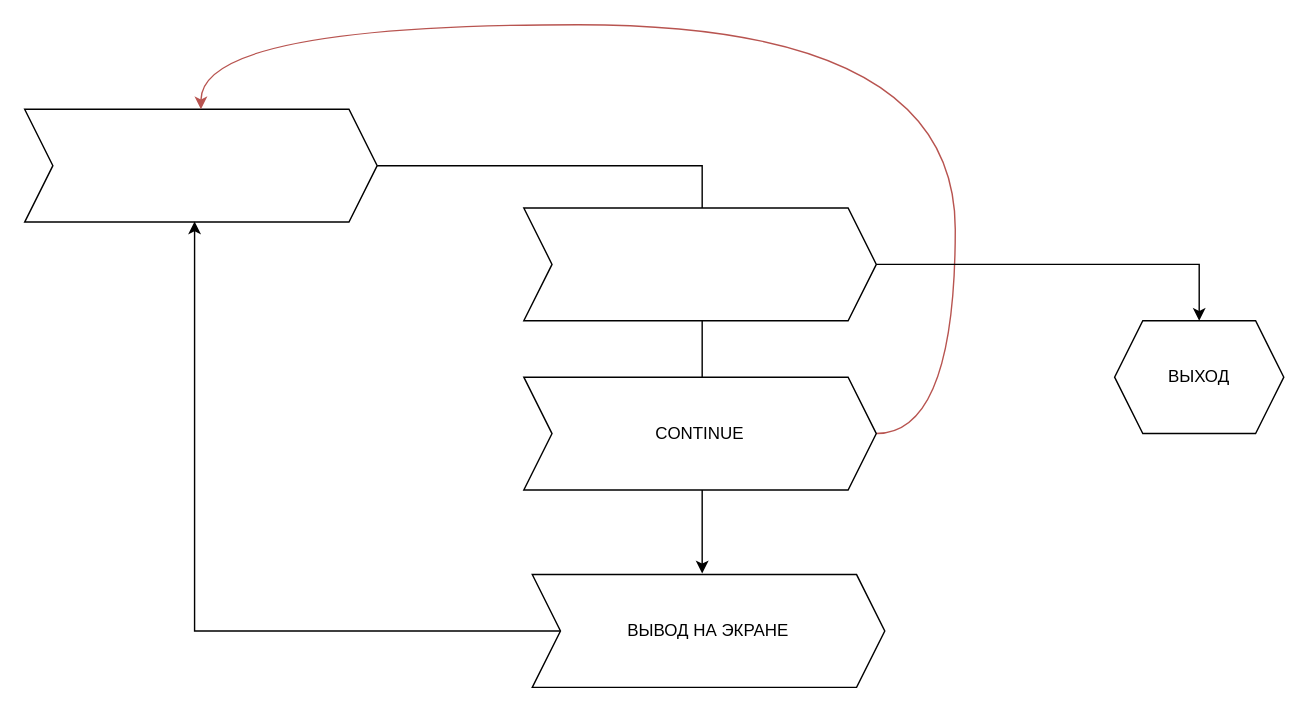
The diagram is 1308 pixels wide and 712 high, and some of its shapes have lost their labels. The box of each missing label's shape, as (x1, y1, x2, y2) in pixels:
BREAK: (522, 207, 876, 321)
тело цикла: (23, 108, 377, 222)
